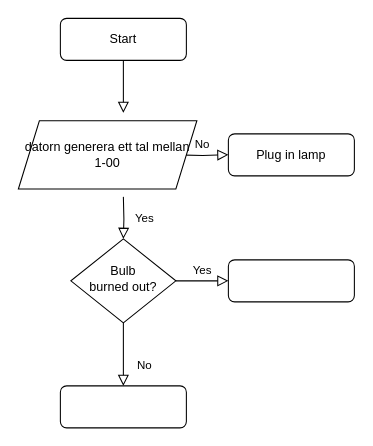
Image size: 373x446. Some labels were removed from this diagram. The centre of each missing label's shape, as x and y in pixels:
Repair Lamp: the point at 122,406
Replace Bulb: the point at 290,280
